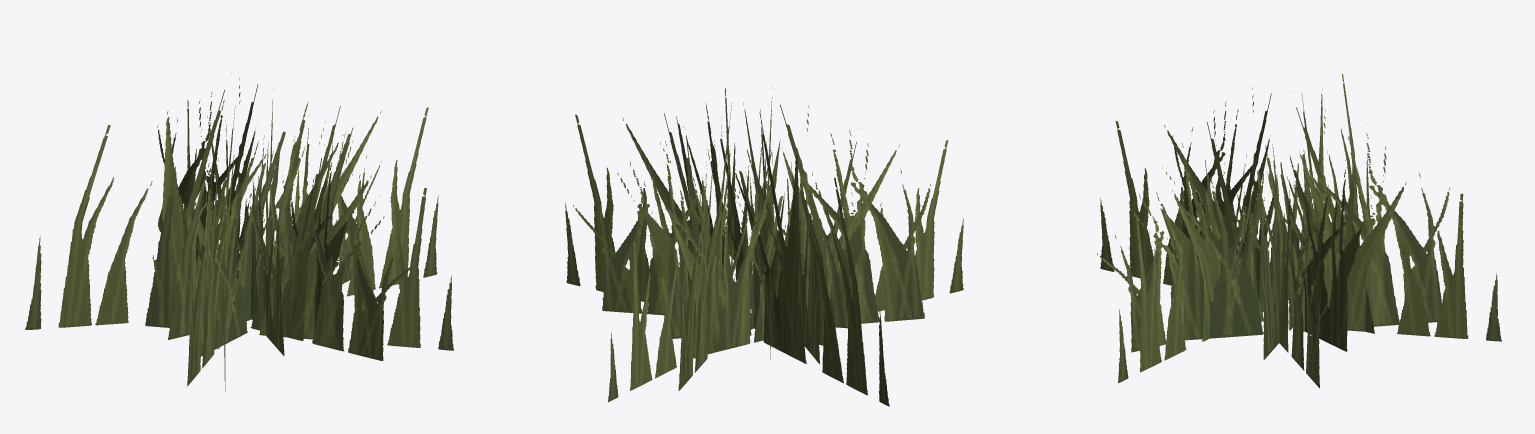
File: grass_patch_small.glb
3 views of the same model, side by side, from view 1: azimuth 30°, elevation 25°; view 2: azimuth 150°, elevation 25°; view 3: azimuth 270°, elevation 25° (orthographic).
Visible parts, largest first — view 1: outdoor_grass_patch_small; view 2: outdoor_grass_patch_small; view 3: outdoor_grass_patch_small.
Boxes of the visible parts, left/top/right/bottom form: outdoor_grass_patch_small: left=25, top=73, right=453, bottom=392; outdoor_grass_patch_small: left=565, top=85, right=963, bottom=406; outdoor_grass_patch_small: left=1097, top=73, right=1501, bottom=388.
Bounding box in the file's own units: 0.55 × 0.3 × 0.55.
1 material, 1 textured.
